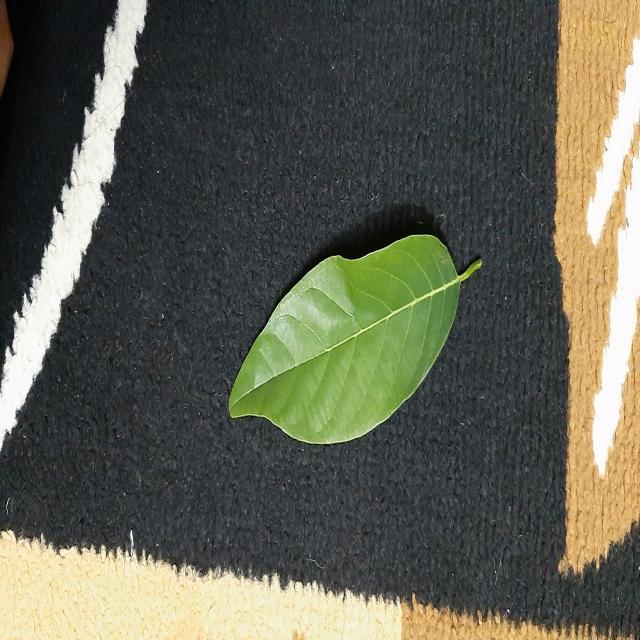seethaphala: (229, 236, 481, 442)
